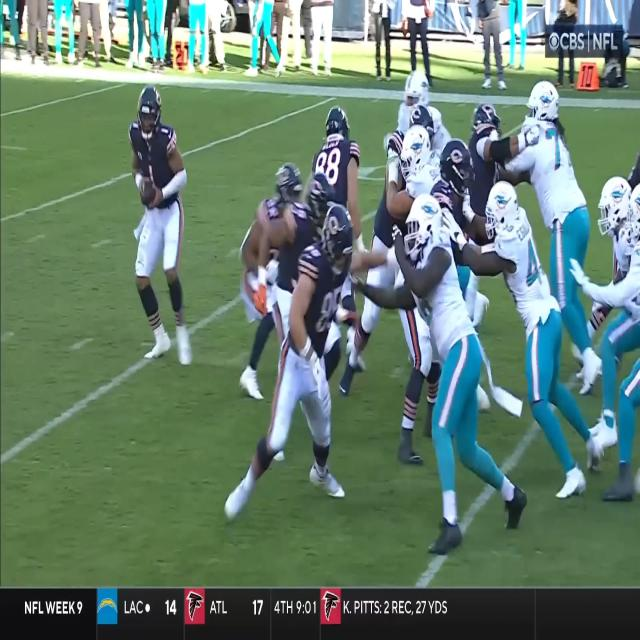football: (140, 180, 156, 209)
players: (379, 192, 528, 552), (462, 181, 604, 514), (224, 202, 354, 524), (395, 139, 506, 464), (504, 74, 604, 396), (302, 107, 370, 398), (240, 162, 316, 403), (130, 86, 193, 366), (586, 176, 637, 447), (466, 104, 532, 293)
